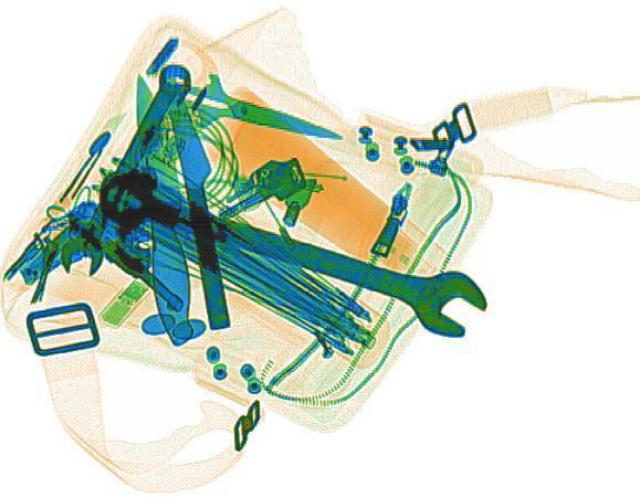Knife: (158, 62, 238, 327), (123, 72, 197, 344), (174, 68, 353, 159)
Wrench: (78, 156, 500, 342)
